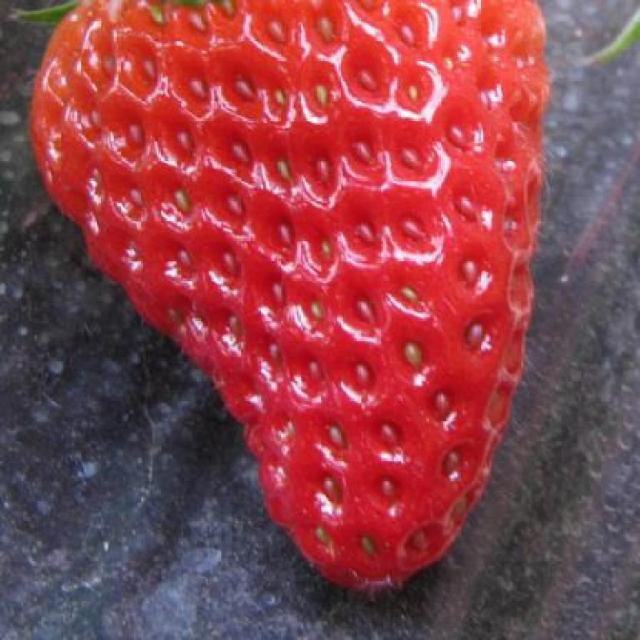Strawberry: (14, 0, 530, 591)
